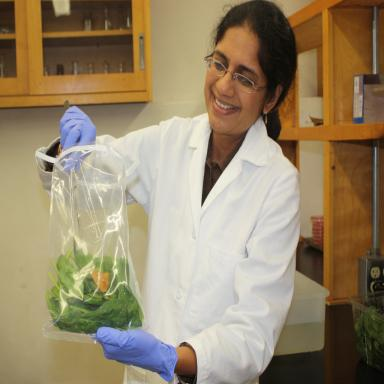plasticbag: (42, 142, 150, 343)
